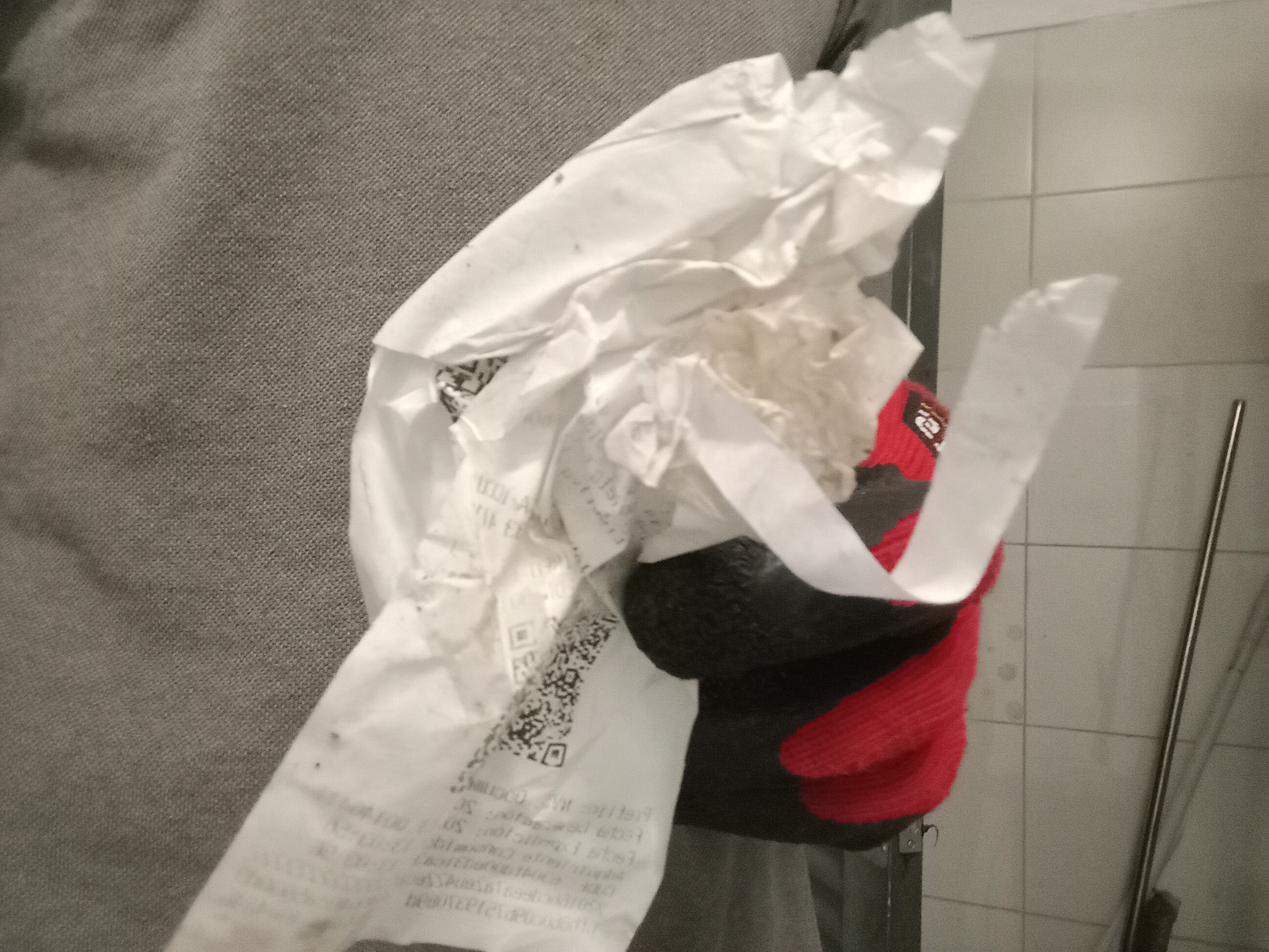Ordinario: (165, 12, 1122, 952)
